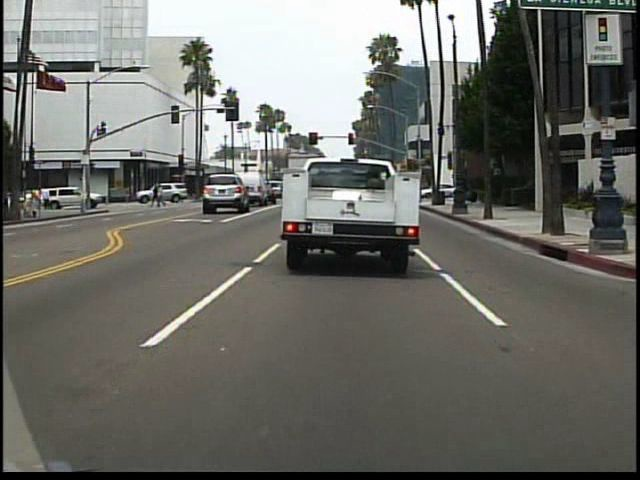person: (41, 184, 55, 213)
